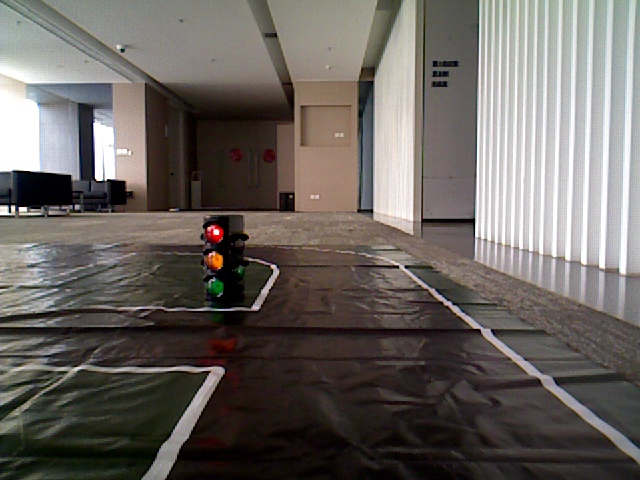red: (204, 220, 231, 301)
